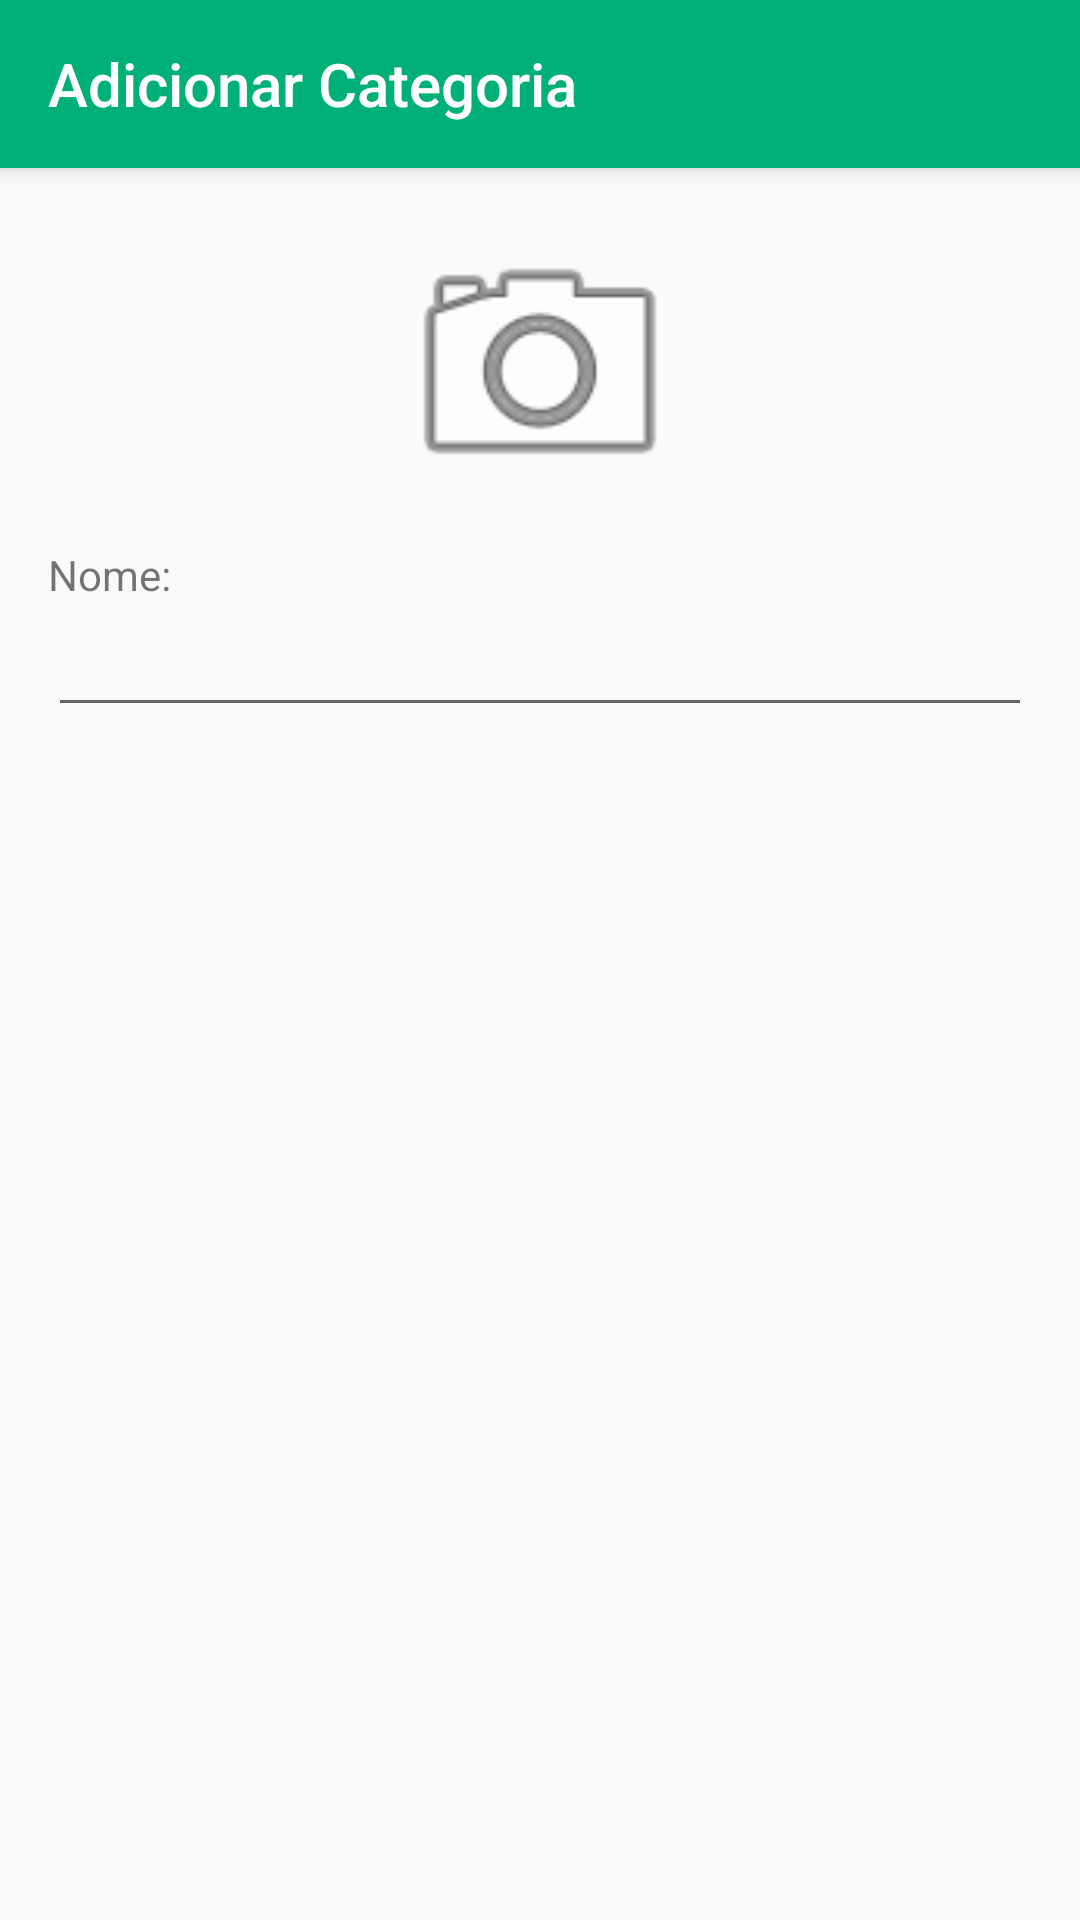

Named icons in this screenshot (1080px x 1920px) and their centers, (x=x, y=y):
camera: (x=540, y=361)
